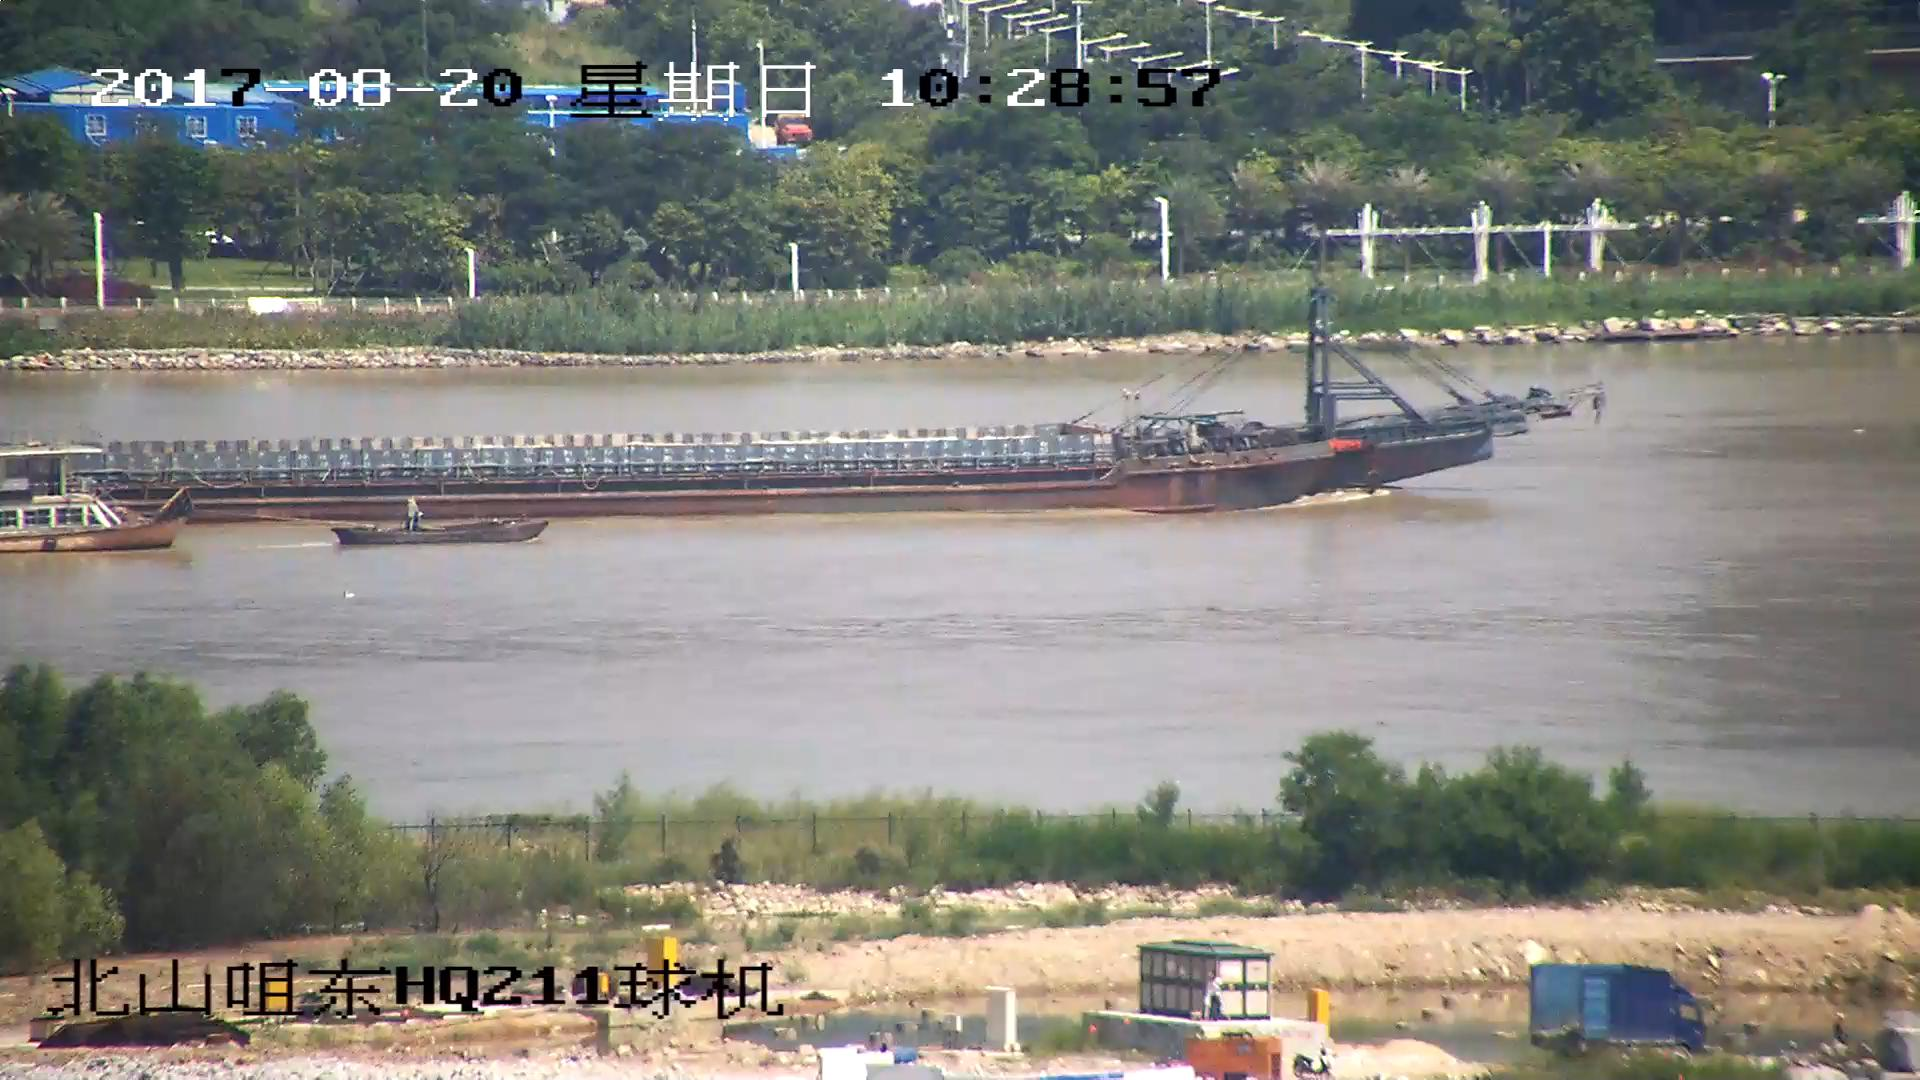fishing boat: (1, 448, 191, 549), (338, 499, 546, 548)
ore carrier: (1, 276, 1599, 524)
